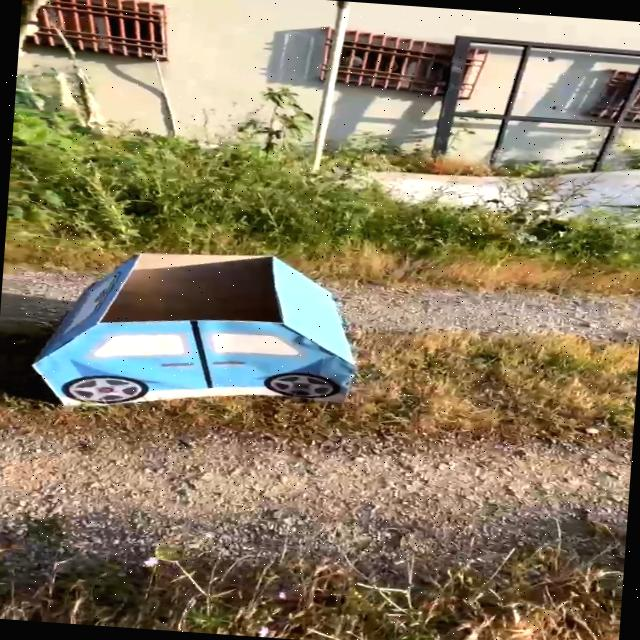blue_car: (0, 203, 449, 480)
